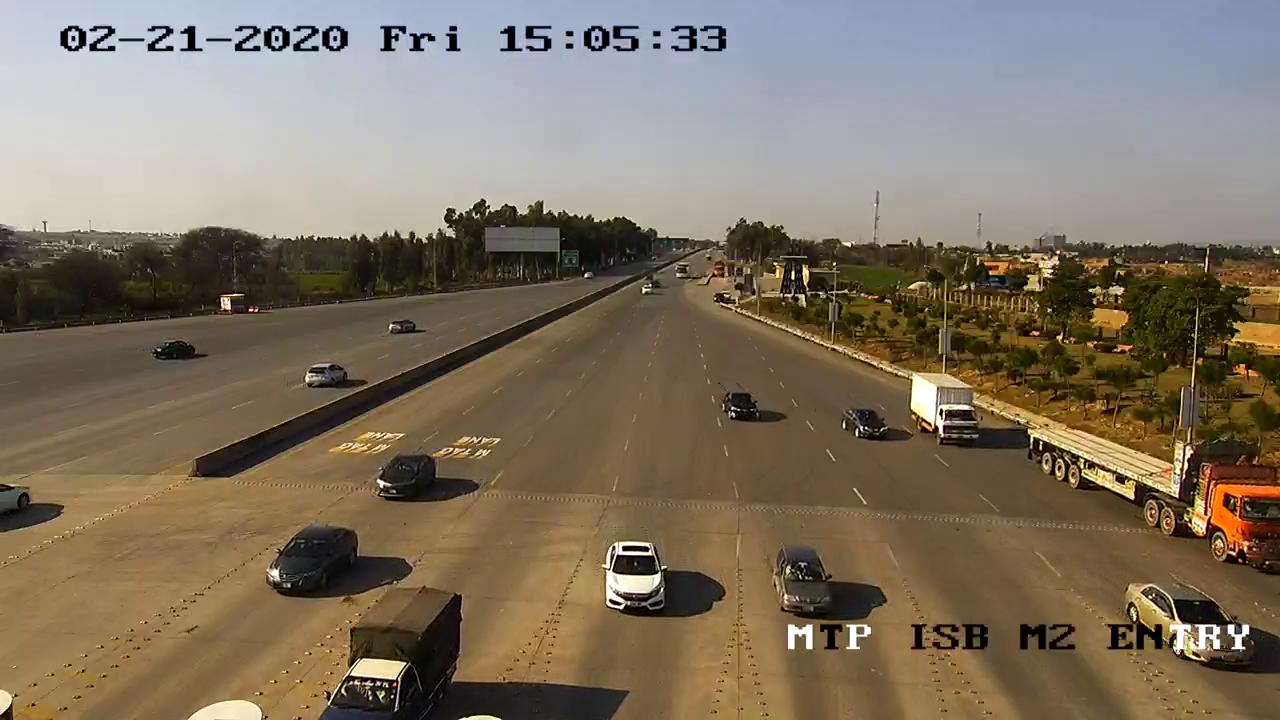f1: (254, 515, 366, 607), (594, 533, 680, 632), (760, 535, 846, 623), (363, 444, 449, 510), (838, 397, 898, 450), (708, 383, 763, 432)
f2: (311, 578, 522, 719)
f5: (891, 364, 992, 455)
f6: (1012, 409, 1279, 577)
